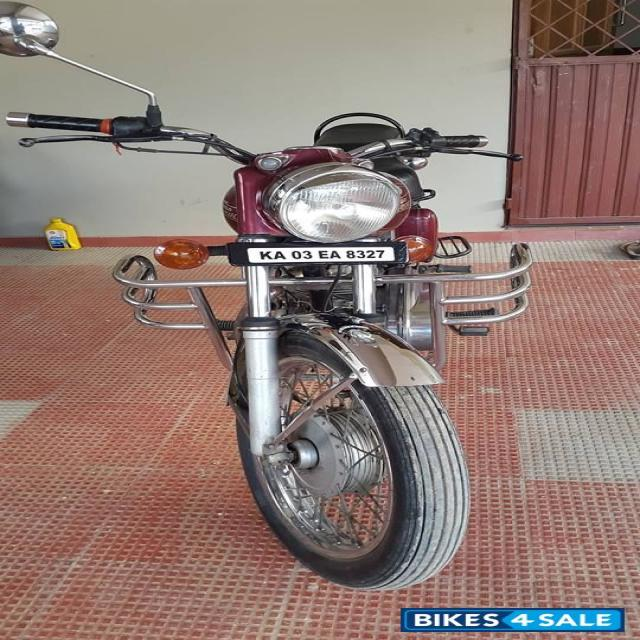number plate: (228, 241, 408, 266)
